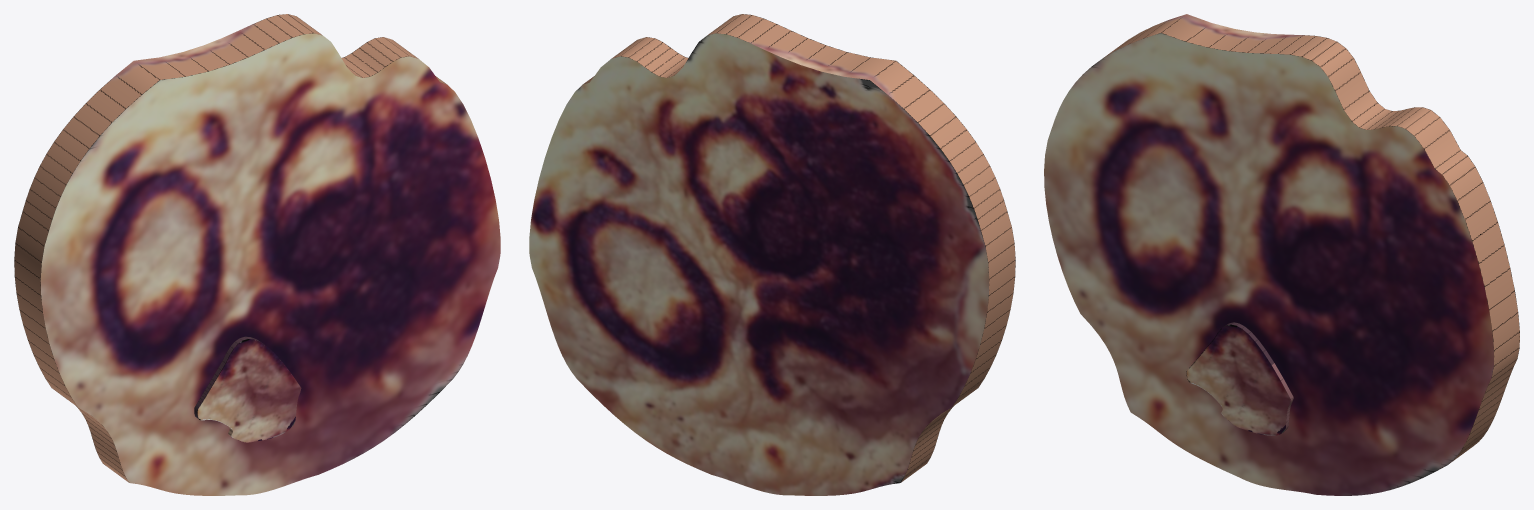
Rendered from mayhave-cookie.glb.
The picture shows the model from 3 angles, left to right: view 1: azimuth 30°, elevation 25°; view 2: azimuth 150°, elevation 25°; view 3: azimuth 330°, elevation 25°; orthographic projection. The views are drawn at different scales.
Parts seen in each view (by area): view 1: body, mouth; view 2: body; view 3: body, mouth.
Boxes of the visible parts, x1,y1,x2,y2 form: body: (14, 14, 500, 495); mouth: (194, 336, 301, 442); body: (529, 14, 1015, 495); body: (1044, 14, 1519, 495); mouth: (1186, 322, 1293, 435).
Size of the model in its own units: 3.41 by 3.18 by 0.4116.
2 materials, 2 textured.
